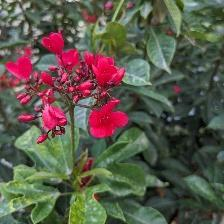jatropha: (89, 100, 130, 140)
